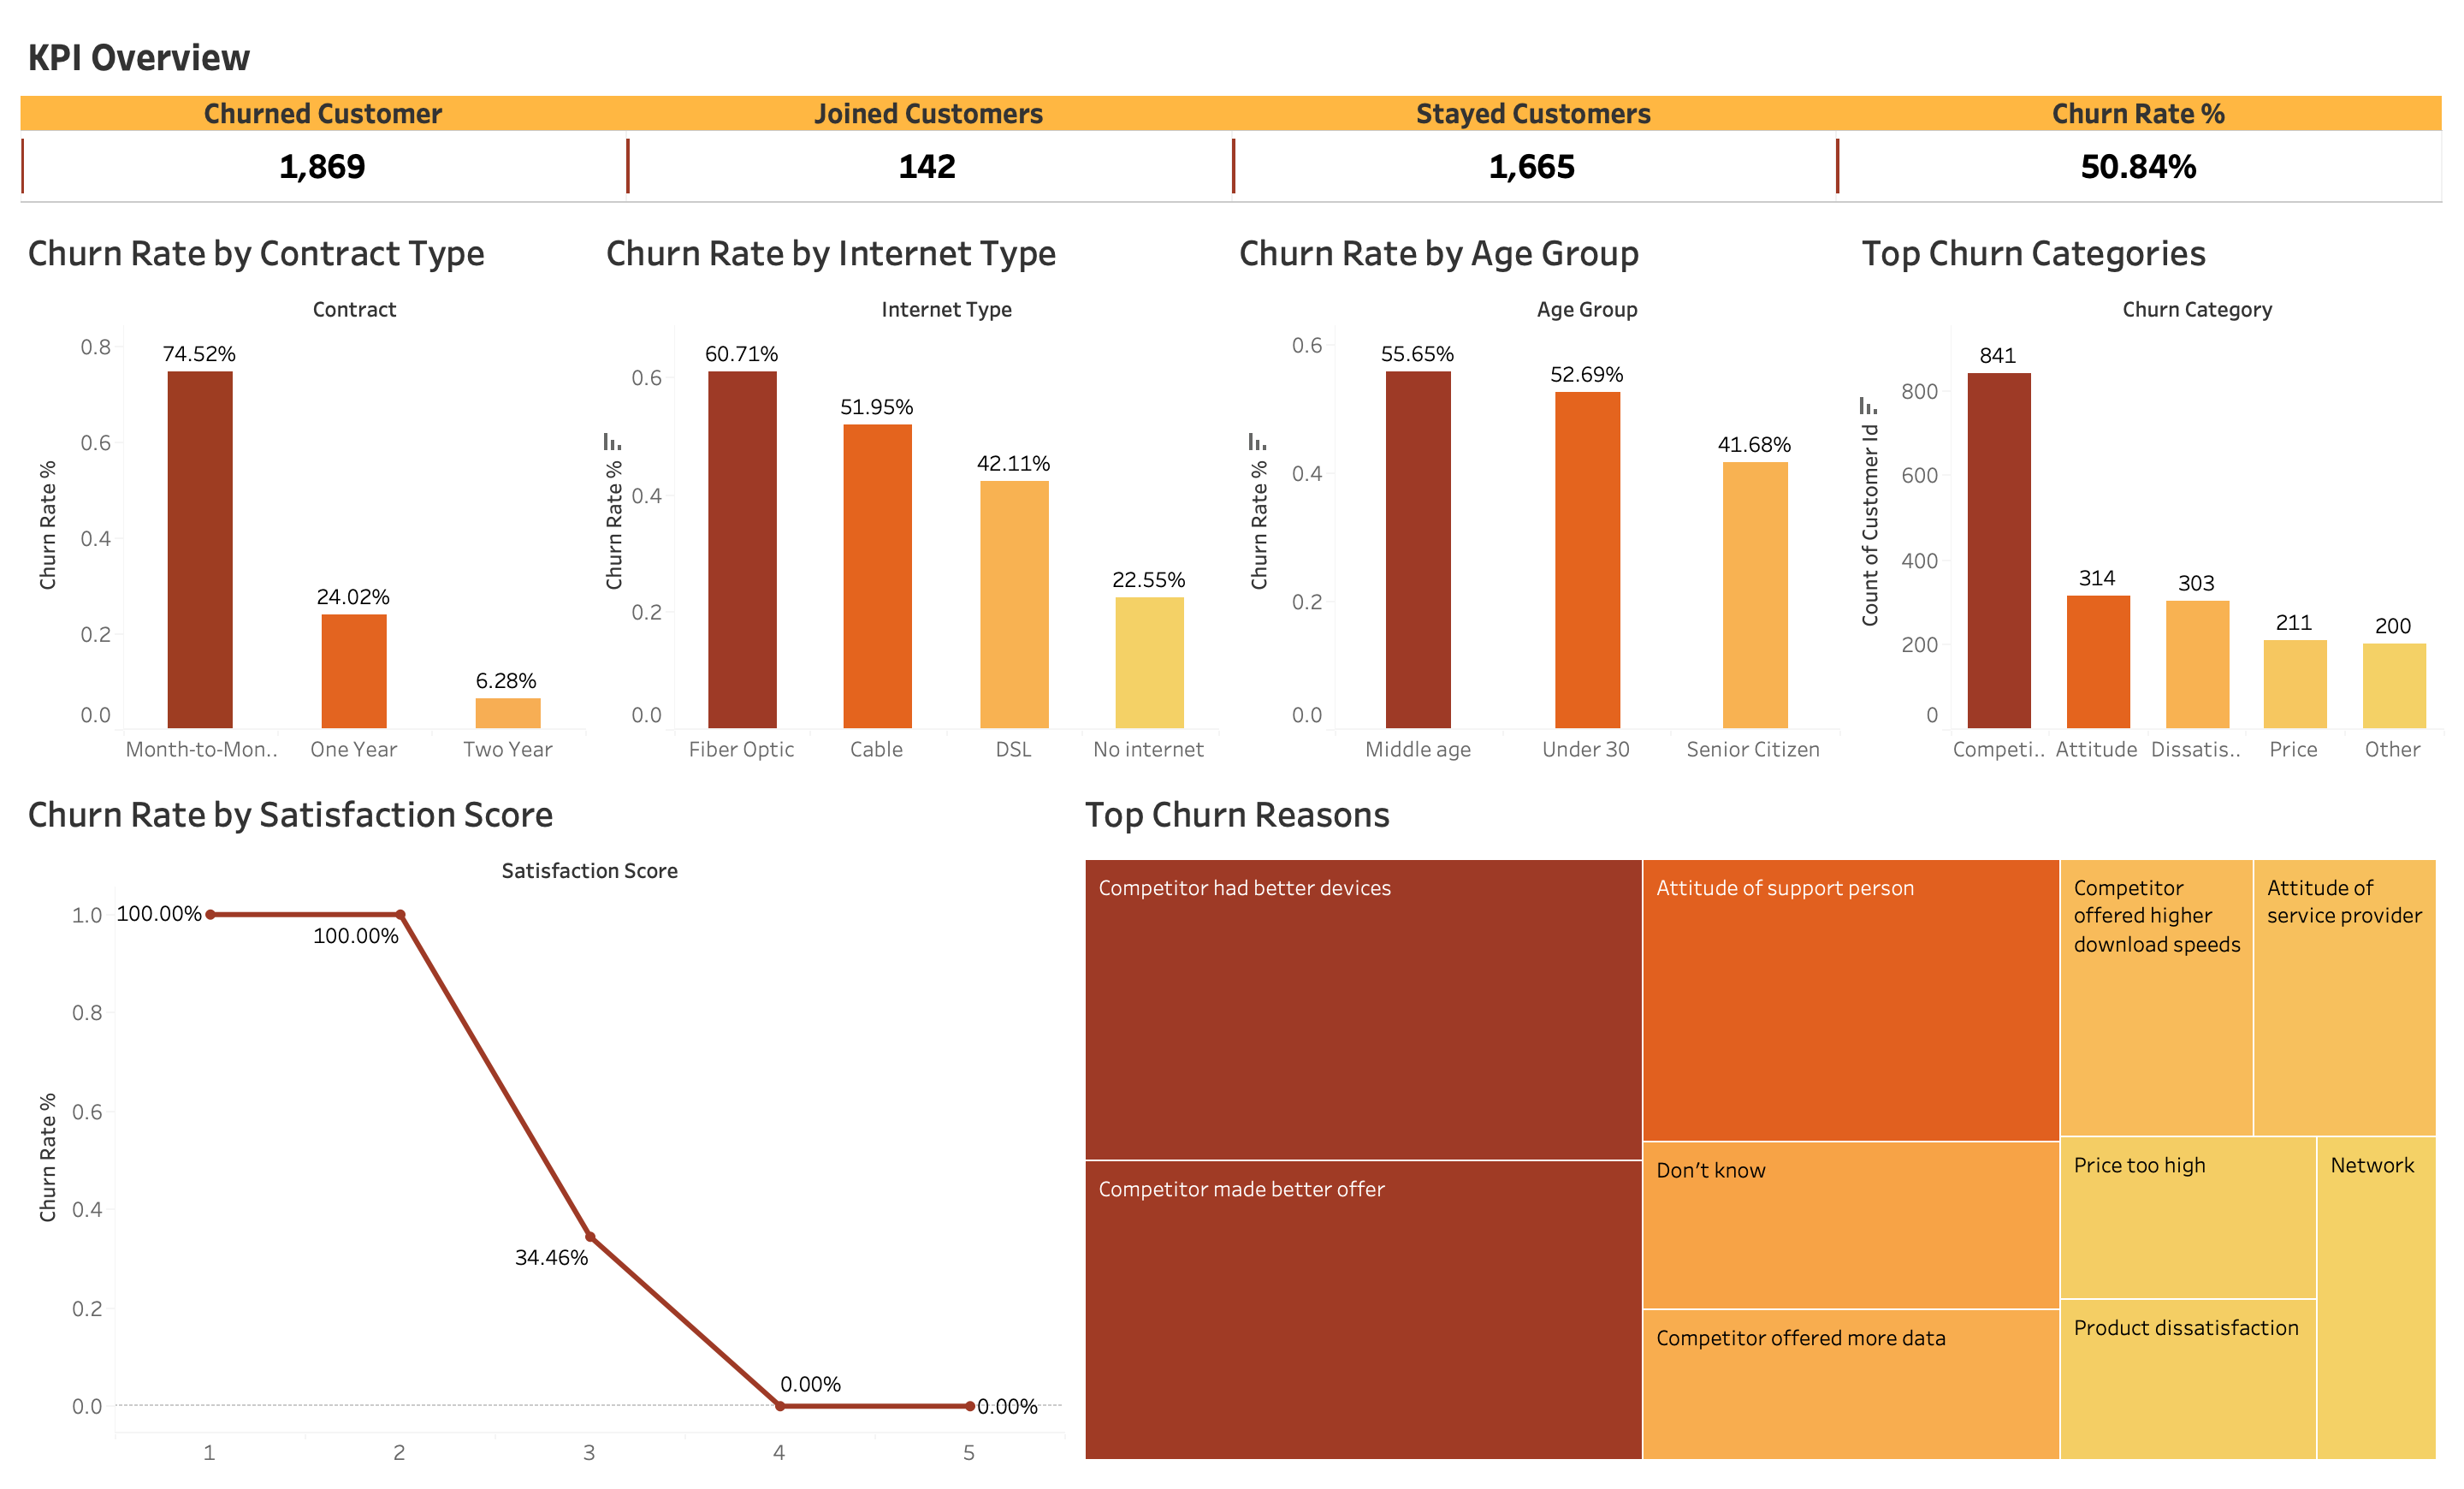

This screenshot's page, from the dashboard's own definition file:
{"tool":"tableau","page":{"name":"Churn Analysis","canvas":[1000,1000],"units":"permille","ordinal":0},"visuals":[{"type":"worksheet","title":"KPI Overview","mark":"GanttBar","box":[7.4,12.4,985.2,131.7]},{"type":"worksheet","title":"Churn Rate by Contract Type","mark":"Bar","rows":["Calculation_0313504000888832"],"cols":["contract"],"box":[7.4,144.1,233.7,374]},{"type":"worksheet","title":"Churn Rate by Internet Type","mark":"Automatic","rows":["Calculation_0313504000888832"],"cols":["internet_type"],"box":[241.1,144.1,256.3,374]},{"type":"worksheet","title":"Churn Rate by Age Group","mark":"Automatic","rows":["Calculation_0313504000888832"],"cols":["age_group"],"box":[497.4,144.1,251.4,374]},{"type":"worksheet","title":"Top Churn Categories","mark":"Automatic","rows":["customer_id"],"cols":["churn_category"],"box":[748.8,144.1,243.8,374]},{"type":"worksheet","title":"Churn Rate by Satisfaction Score","mark":"Line","rows":["Calculation_0313504000888832"],"cols":["satisfaction_score"],"box":[7.4,518.2,427.7,469.4]},{"type":"worksheet","title":"Top Churn Reasons","mark":"Automatic","box":[435.1,518.2,557.5,469.4]}]}

Visuals, with their boxes on the dashboard's canvas, which has no fixed pixel size, in thousandths of its width and height (x1, y1, x2, y2). These are canvas units, not pixel positions in the 2464x1489 screenshot, which may show the page scaled, cropped or inside an application window:
"KPI Overview" worksheet (GanttBar marks): rect(7, 12, 993, 144)
"Churn Rate by Contract Type" worksheet (Bar marks): rect(7, 144, 241, 518)
"Churn Rate by Internet Type" worksheet: rect(241, 144, 497, 518)
"Churn Rate by Age Group" worksheet: rect(497, 144, 749, 518)
"Top Churn Categories" worksheet: rect(749, 144, 993, 518)
"Churn Rate by Satisfaction Score" worksheet (Line marks): rect(7, 518, 435, 988)
"Top Churn Reasons" worksheet: rect(435, 518, 993, 988)
